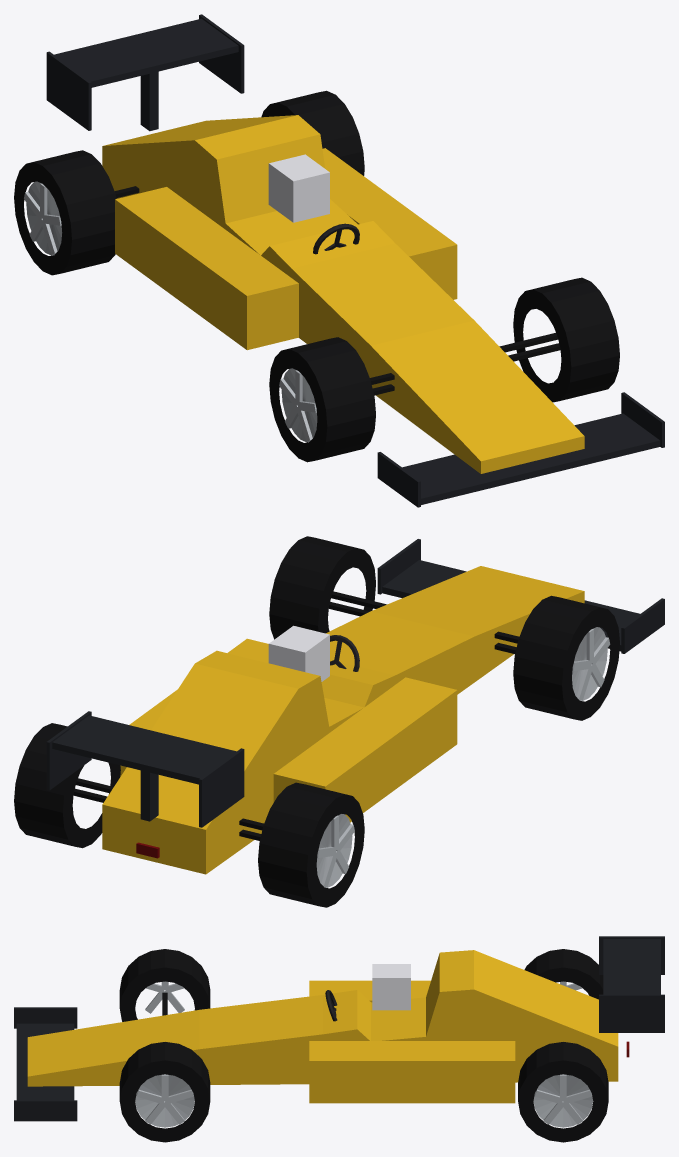
File: body.glb
3 views of the same model, one above another, from view 1: azimuth 30°, elevation 25°; view 2: azimuth 150°, elevation 25°; view 3: azimuth 270°, elevation 25° (orthographic). The views are drawn at different scales.
Visible parts, largest first — view 1: tub, sidepods, wings, wheel_RF, wheel_RR, wheel_LF, wheel_LR, helmet, arms_LF; view 2: tub, wings, sidepods, wheel_RF, wheel_RR, wheel_LF, wheel_LR, helmet, arms_LF, arms_LR; view 3: tub, sidepods, wings, wheel_LF, wheel_LR, wheel_RF, wheel_RR, helmet.
Part boxes in pixels (x1,y1,x2,y2): tub: [102, 115, 584, 473]; sidepods: [115, 148, 457, 350]; wings: [46, 14, 664, 507]; wheel_RF: [269, 337, 375, 462]; wheel_RR: [14, 150, 116, 275]; wheel_LF: [513, 277, 619, 402]; wheel_LR: [261, 90, 364, 175]; helmet: [268, 154, 329, 222]; arms_LF: [499, 332, 560, 361]; tub: [102, 566, 584, 874]; wings: [46, 539, 664, 827]; sidepods: [120, 638, 457, 822]; wheel_RF: [513, 595, 619, 720]; wheel_RR: [258, 782, 364, 907]; wheel_LF: [269, 536, 375, 639]; wheel_LR: [14, 723, 120, 848]; helmet: [268, 625, 329, 681]; arms_LF: [328, 591, 386, 616]; arms_LR: [73, 778, 113, 802]; tub: [27, 950, 618, 1086]; sidepods: [309, 980, 515, 1103]; wings: [14, 936, 664, 1121]; wheel_LF: [119, 1042, 210, 1142]; wheel_LR: [518, 1042, 608, 1142]; wheel_RF: [119, 949, 210, 1021]; wheel_RR: [524, 949, 603, 999]; helmet: [372, 964, 410, 1010].
Size of the model in its own units: 1.93 by 0.97 by 4.74.
